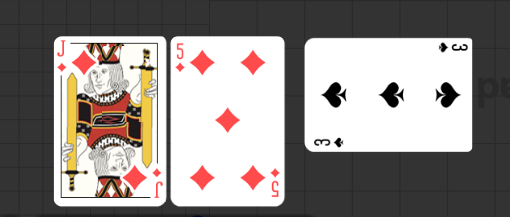3S: (435, 42, 469, 55)
5D: (174, 42, 186, 74)
9D: (55, 39, 67, 73)
